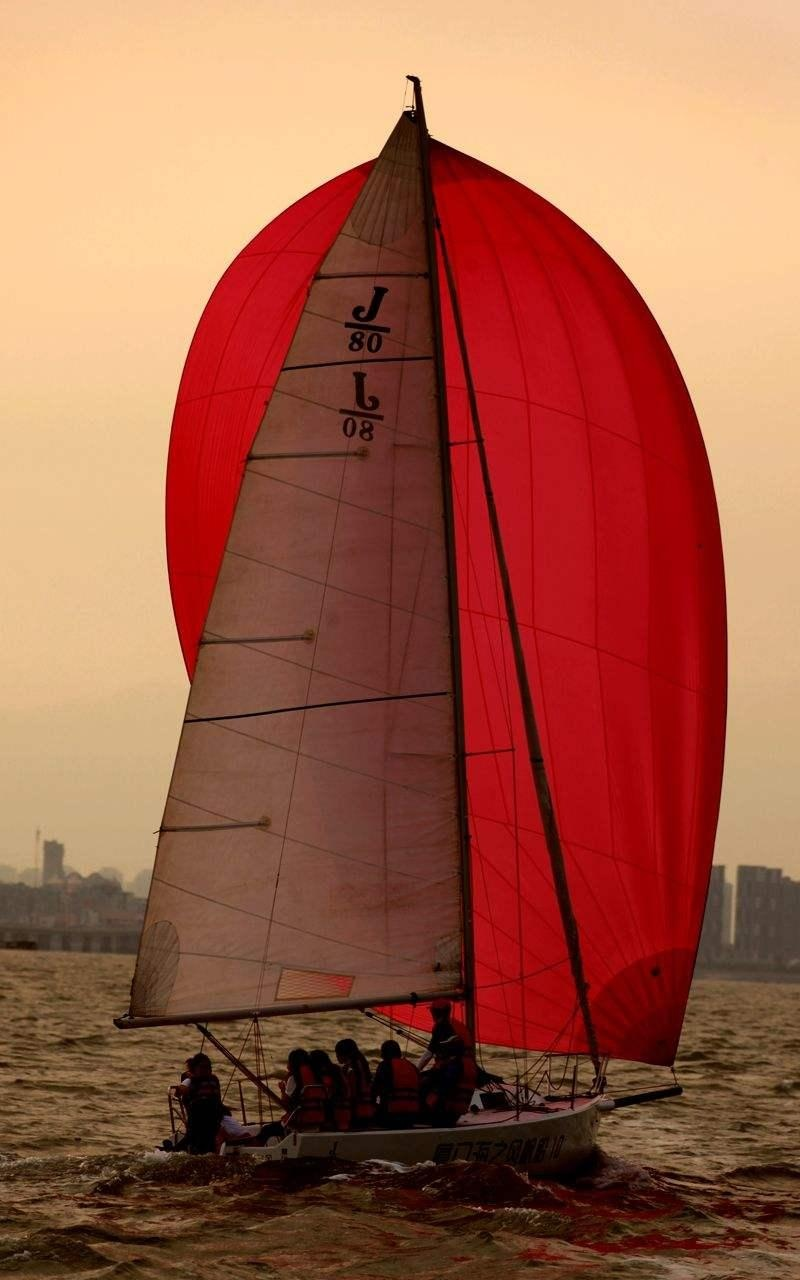fanchuan: (121, 68, 745, 1180)
